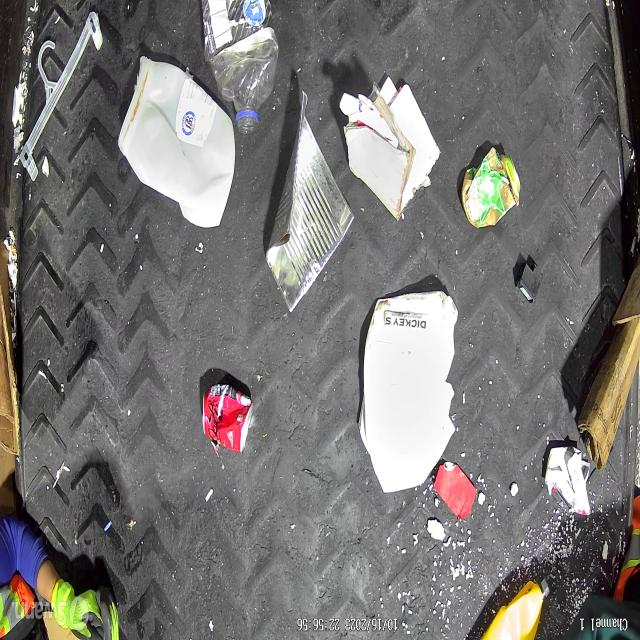can: (267, 86, 355, 315), (460, 154, 522, 228), (202, 384, 253, 455)
milk_jug: (118, 55, 236, 228)
non_white_jug: (484, 576, 550, 640)
plastic_bottle: (202, 0, 278, 134)
